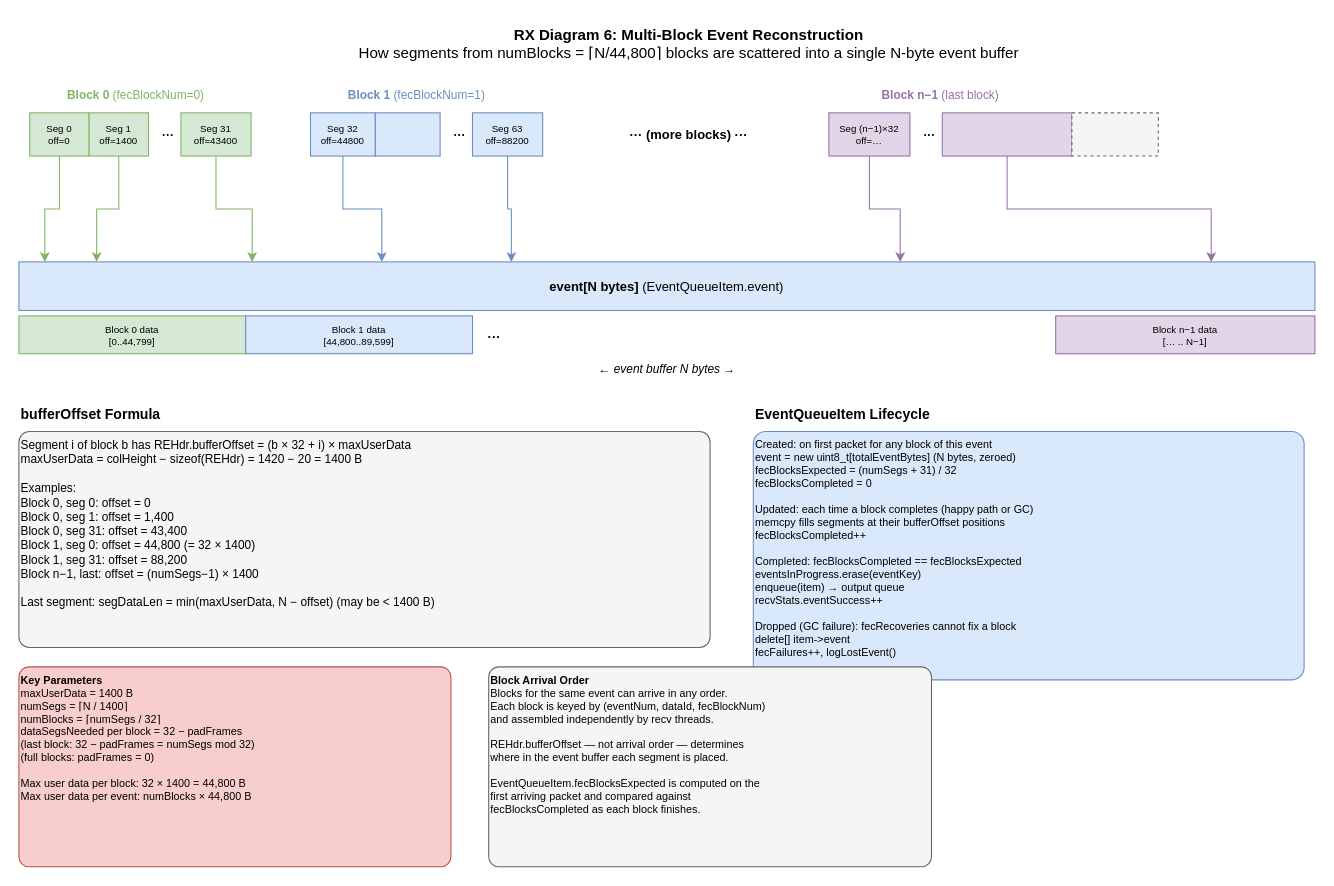
The diagram is 1334 pixels wide and 886 high, and some of its shapes have lost their labels. Here are the shapes that lost their labels. From the top down, the centre of each, then its label:
pixel 407 134: Seg 33 off=46200
pixel 1006 134: Seg numSegs−1 off=(numSegs−1)×1400 len ≤ 1400 B (may be shorter)
pixel 1114 134: (padFrames empty rows)
